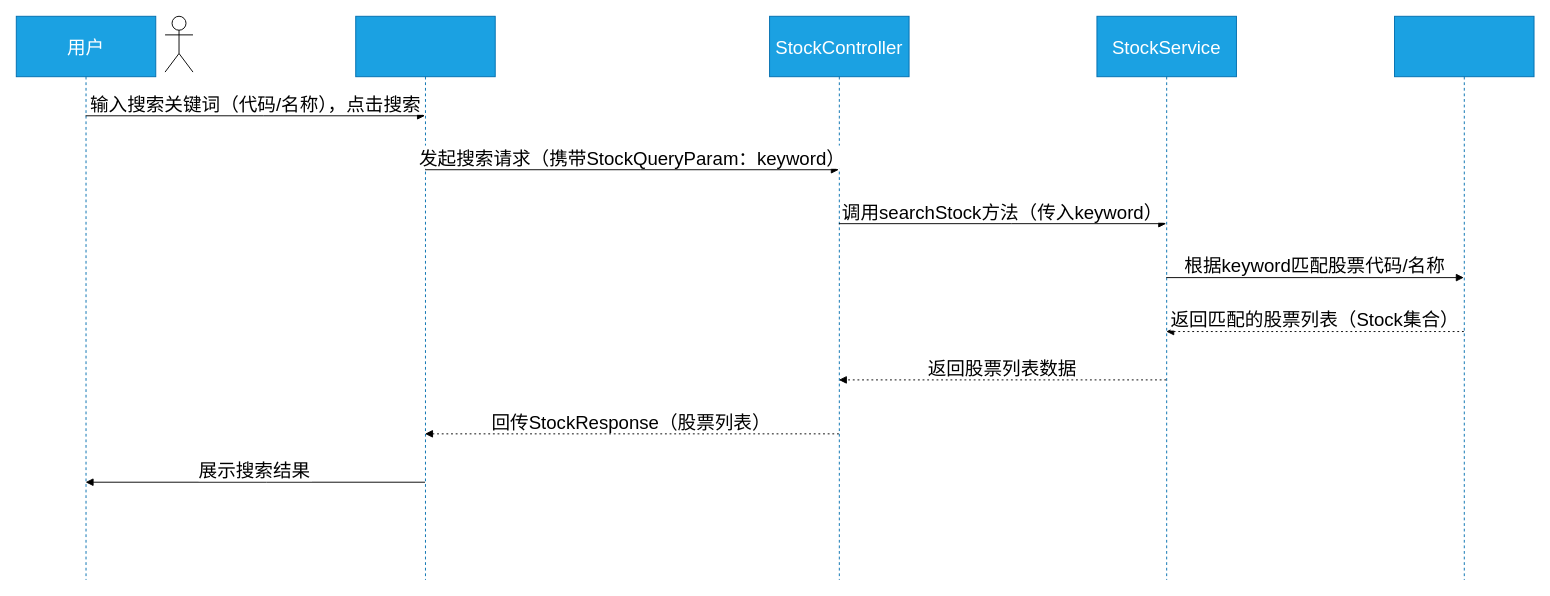
The diagram is 1550 pixels wide and 596 high, and some of its shapes have lost their labels. Here are the shapes that lost their labels. From the top down, the box of each, then its label:
(355, 15, 495, 580): 前端页面
(1394, 15, 1534, 580): Stock
